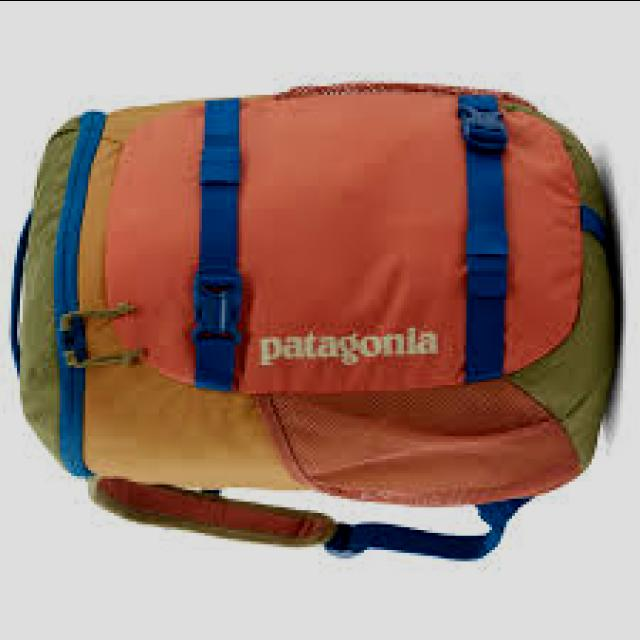backpack: (10, 81, 618, 565)
